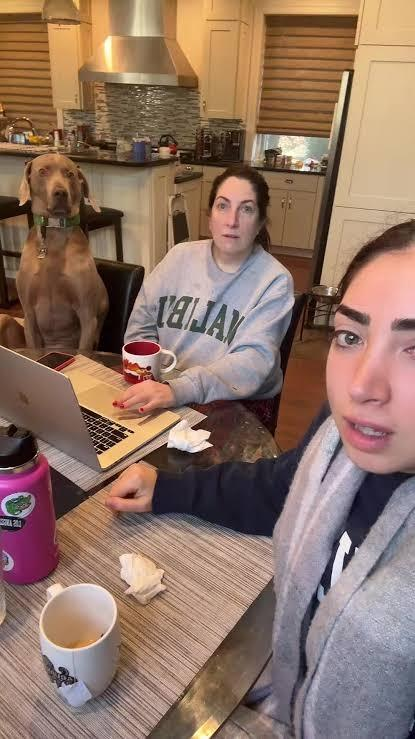adult_dog: (4, 150, 113, 356)
